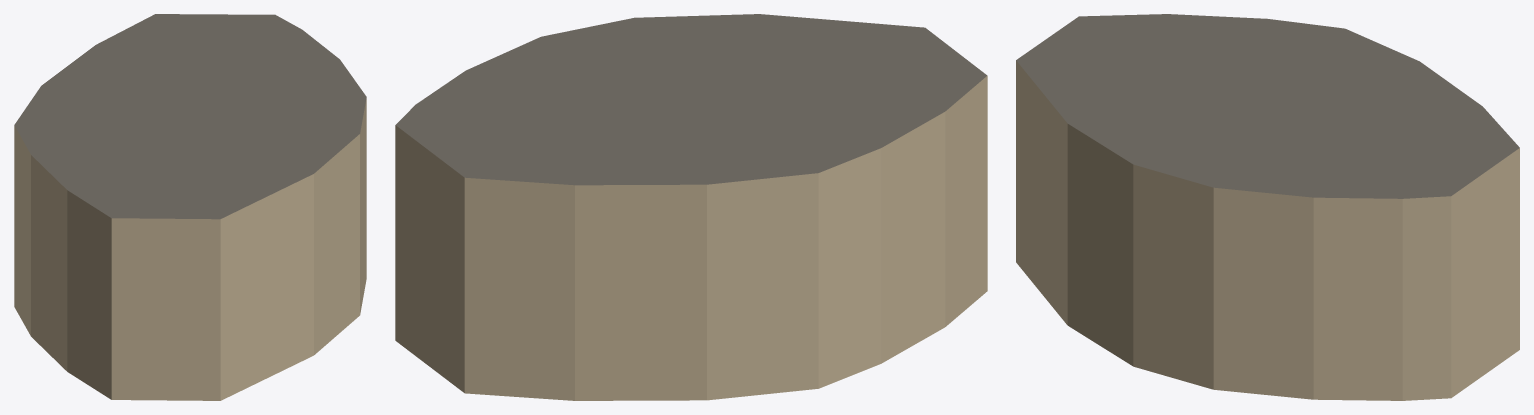
3 renders of one model, left to right at view 1: azimuth 30°, elevation 25°; view 2: azimuth 150°, elevation 25°; view 3: azimuth 270°, elevation 25°, orthographic. The views are drawn at different scales.
Parts seen in each view (by area): view 1: HP-w160983688; view 2: HP-w160983688; view 3: HP-w160983688.
Boxes of the visible parts, x1,y1,x2,y2 form: HP-w160983688: (14,14,366,400); HP-w160983688: (395,14,987,400); HP-w160983688: (1016,14,1519,400).
Size of the model in its own units: 38.85 by 19.8 by 44.75.
